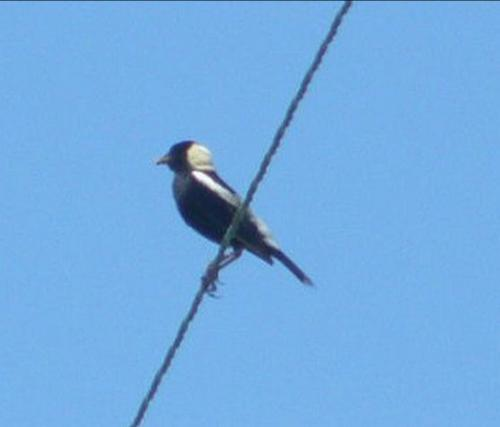bird: (147, 129, 323, 307)
